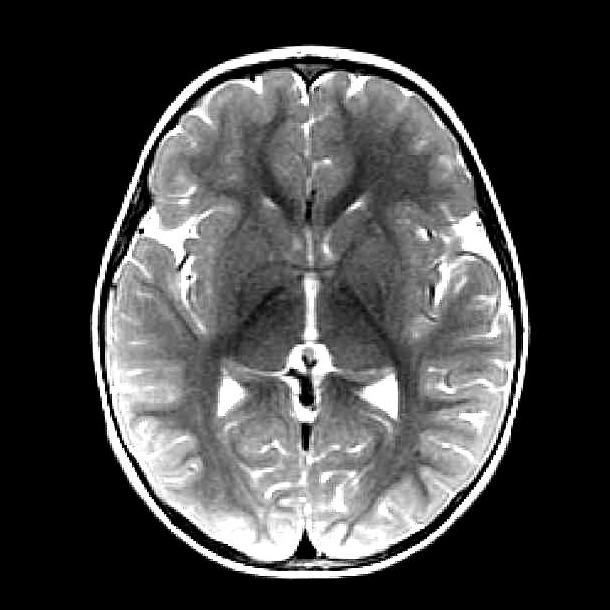Normal_Brain: (1, 1, 610, 610)
